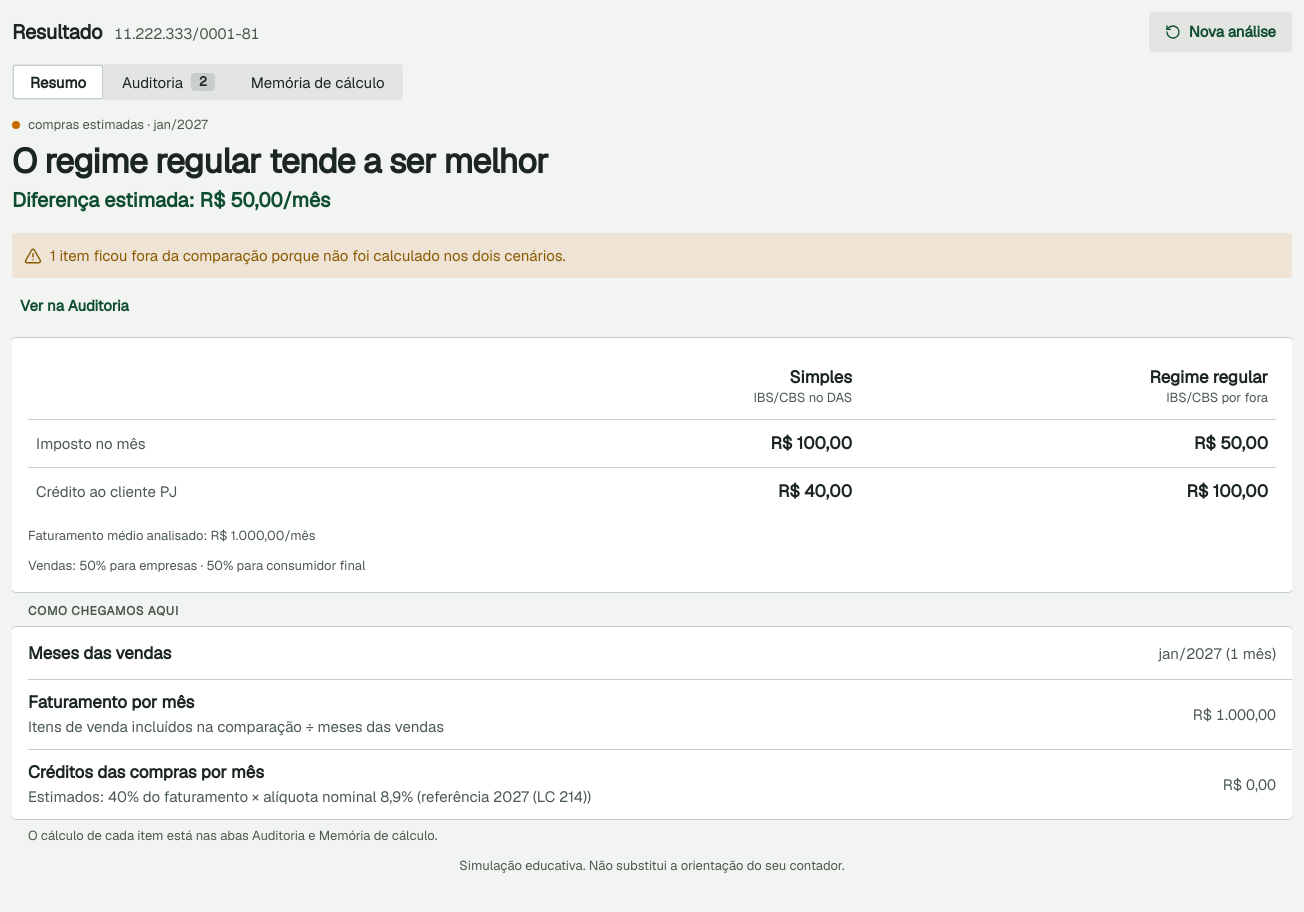
it: Resultado › o atalho de itens excluídos abre a Auditoria filtrada em não calculado / erro do motor
The image size is (1304, 912).
Click the button "Ver na Auditoria" at [74, 306], box [12,286,137,326]
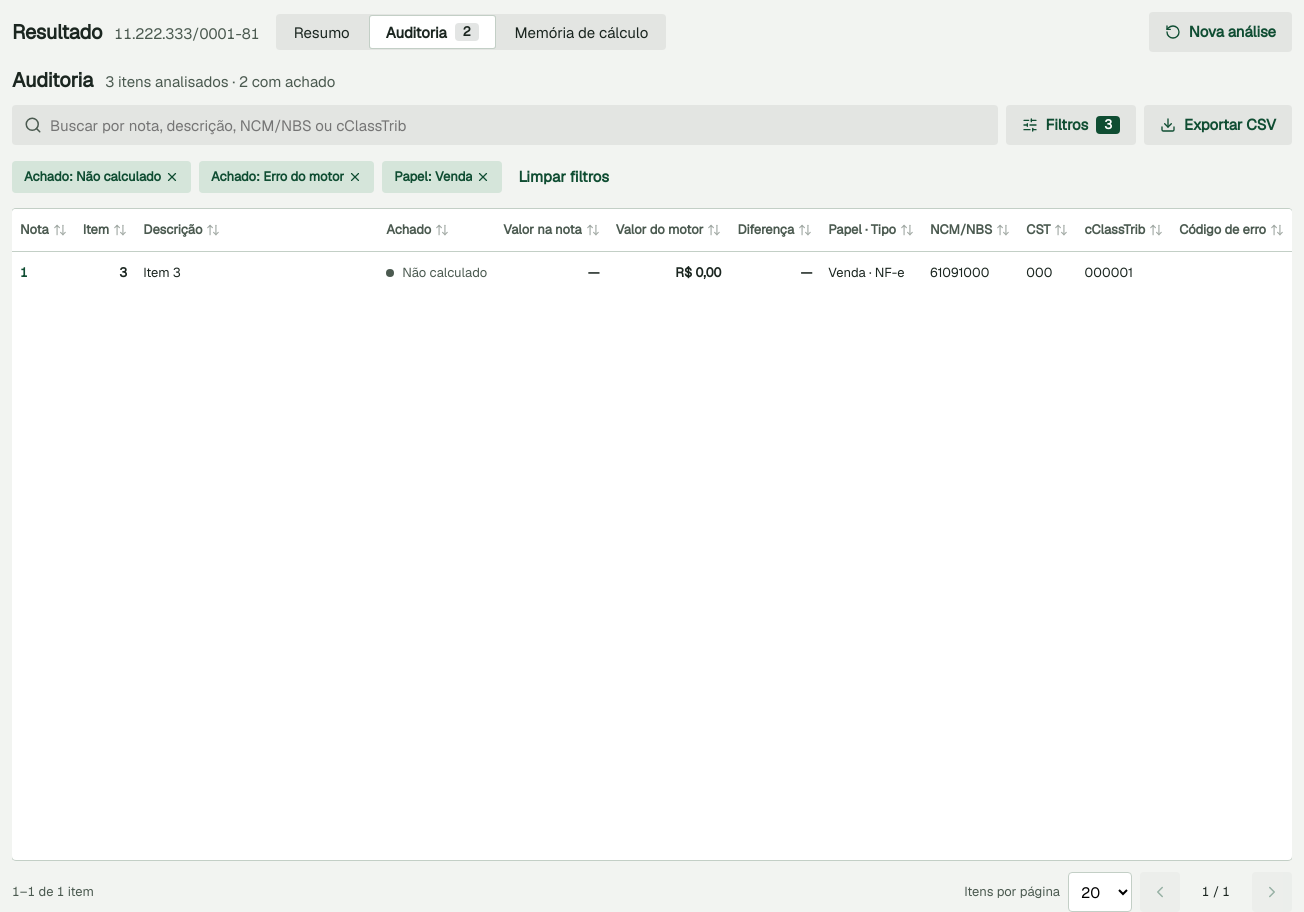
Expected: the row that starts with "Item 3" shows "Não calculado", [402,264,487,281]
Expected: the button with aria-label "Remover filtro Achado: Não calculado" is shown, [12,161,191,193]
